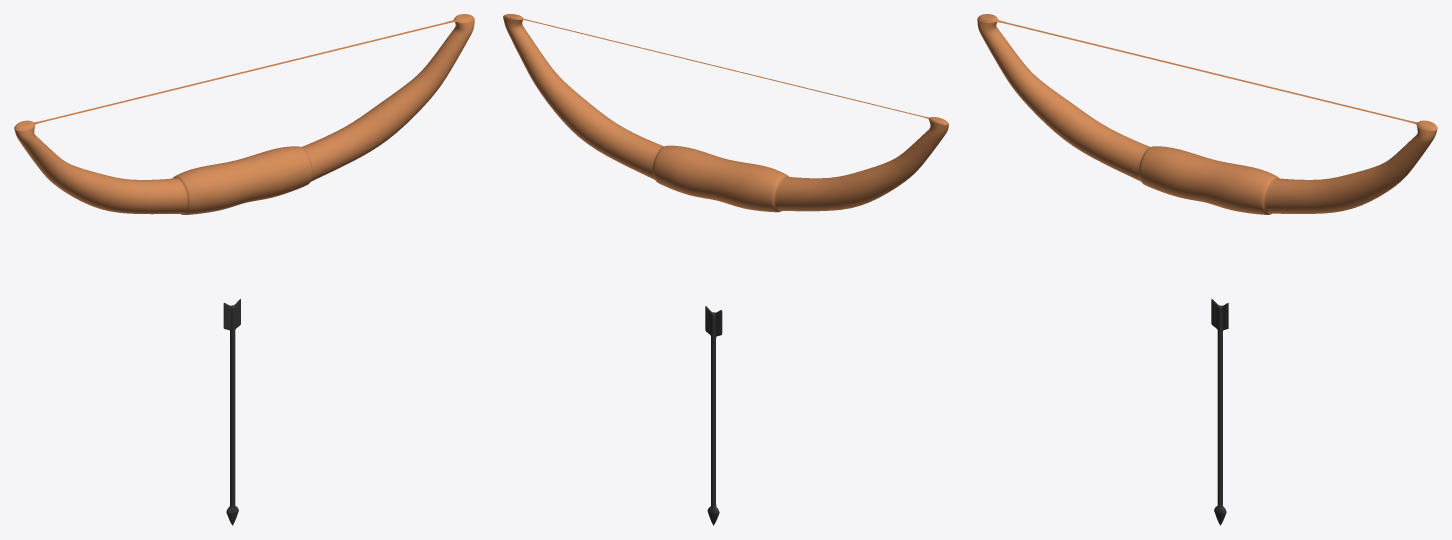
The model's file is bowArrow.fbx.
3 renders of one model, left to right at view 1: azimuth 30°, elevation 25°; view 2: azimuth 150°, elevation 25°; view 3: azimuth 330°, elevation 25°, orthographic. The views are drawn at different scales.
Visible parts, largest first — view 1: bow, arrow; view 2: bow, arrow; view 3: bow, arrow.
Part boxes in pixels (x1,y1,x2,y2): bow: (14, 14, 474, 214); arrow: (223, 299, 240, 525); bow: (503, 14, 948, 212); arrow: (705, 306, 722, 525); bow: (977, 14, 1437, 214); arrow: (1211, 299, 1228, 525).
Size of the model in its own units: 748 by 724 by 68.56.
